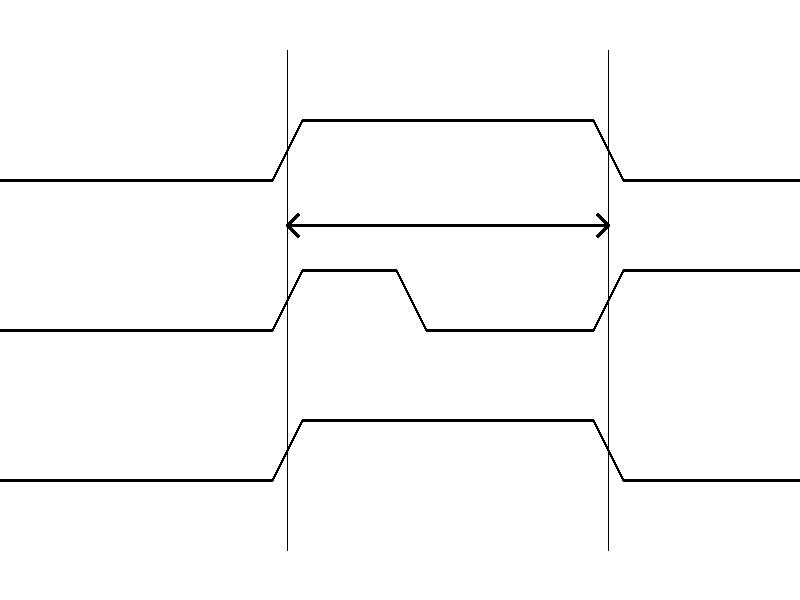double_arrow: (287, 210, 608, 240)
